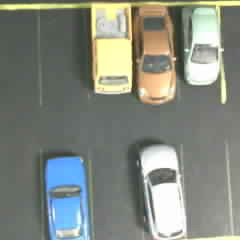Car: (136, 136, 191, 240), (34, 146, 94, 240), (85, 4, 133, 100), (135, 3, 178, 109), (180, 3, 227, 87)
